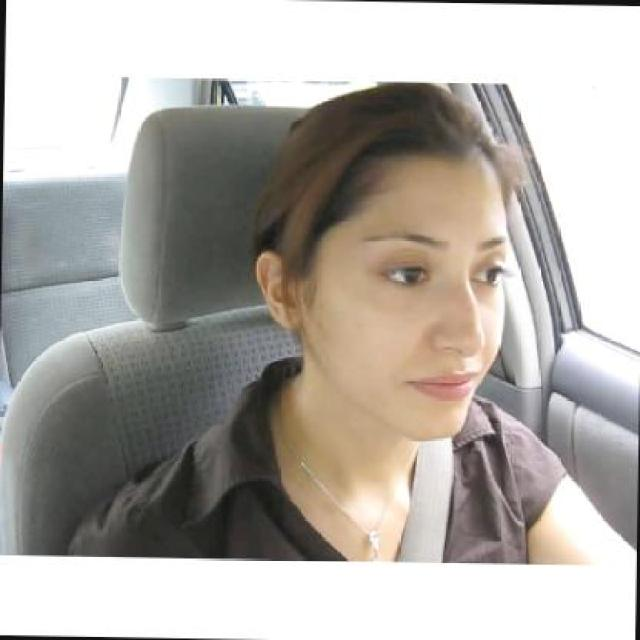attentif: (250, 78, 515, 440)
